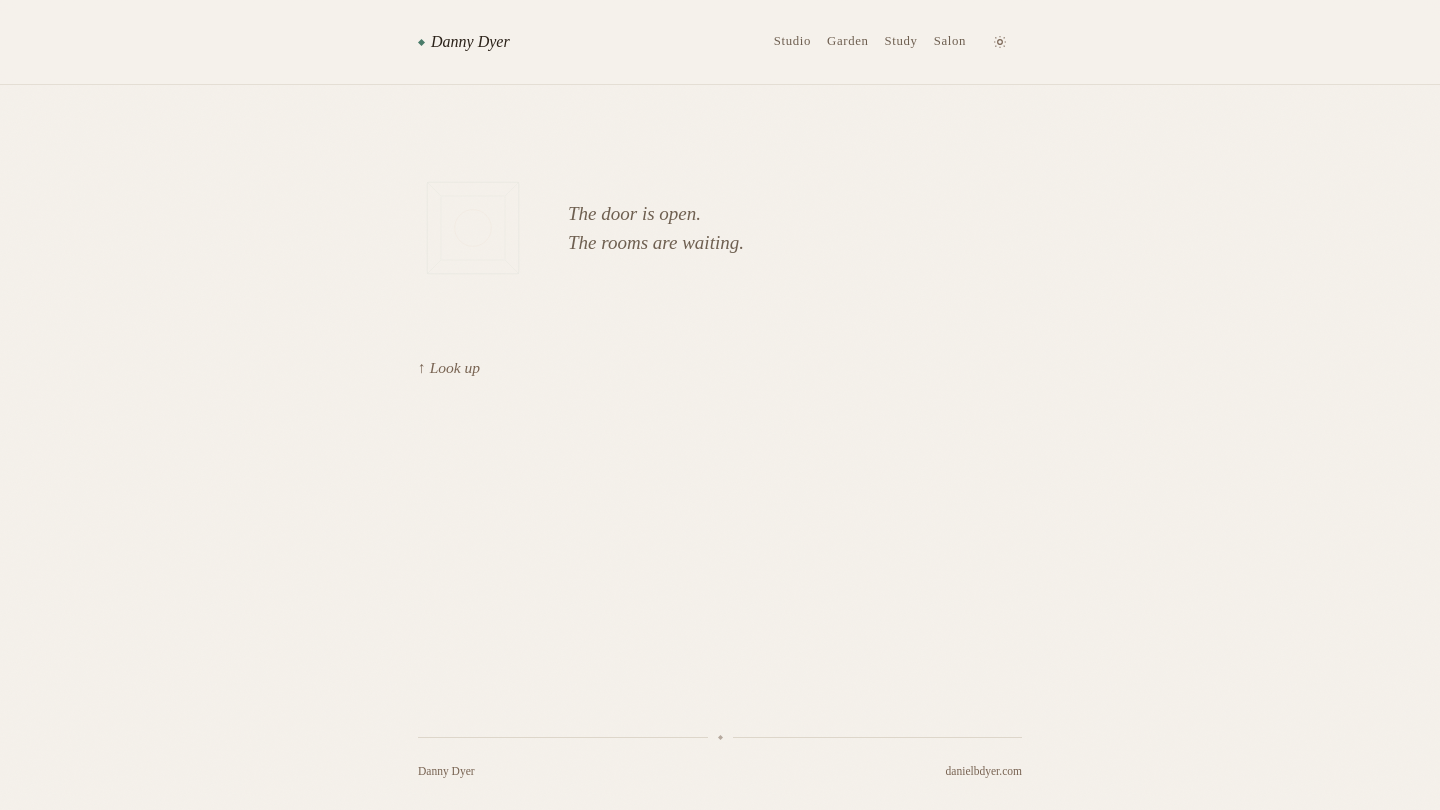
it: Routable navigation › navigates from the foyer to The Studio when the nav link is clicked
The image size is (1440, 810).
Expected: the text "The door is open." is shown, [568, 203, 701, 224]
What coordinates should you click on to do the following:
click the link "Studio"
I would click on:
 (792, 41)
Its box is [774, 34, 811, 48].
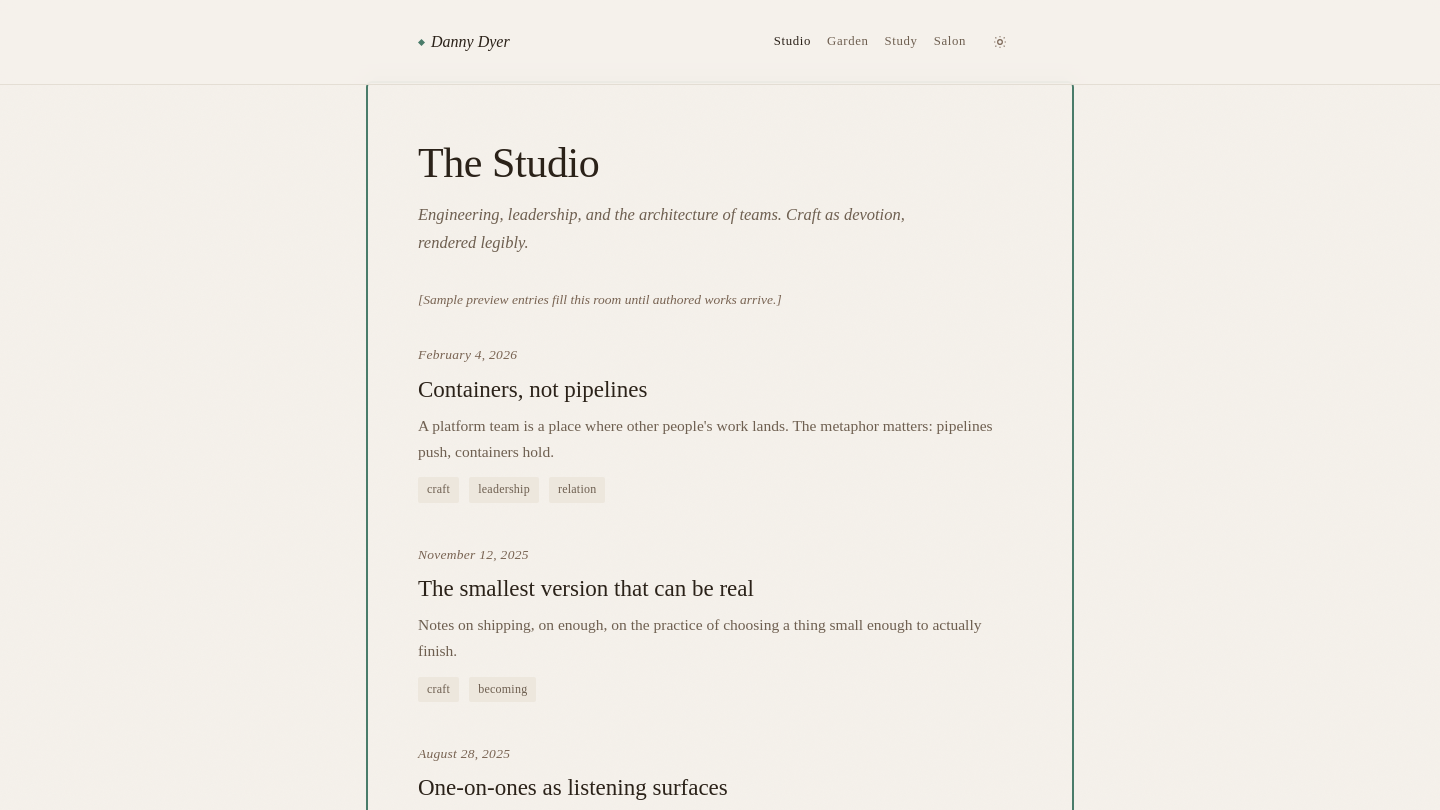
Now the heading "The Studio" is shown, box [418, 140, 599, 186]
